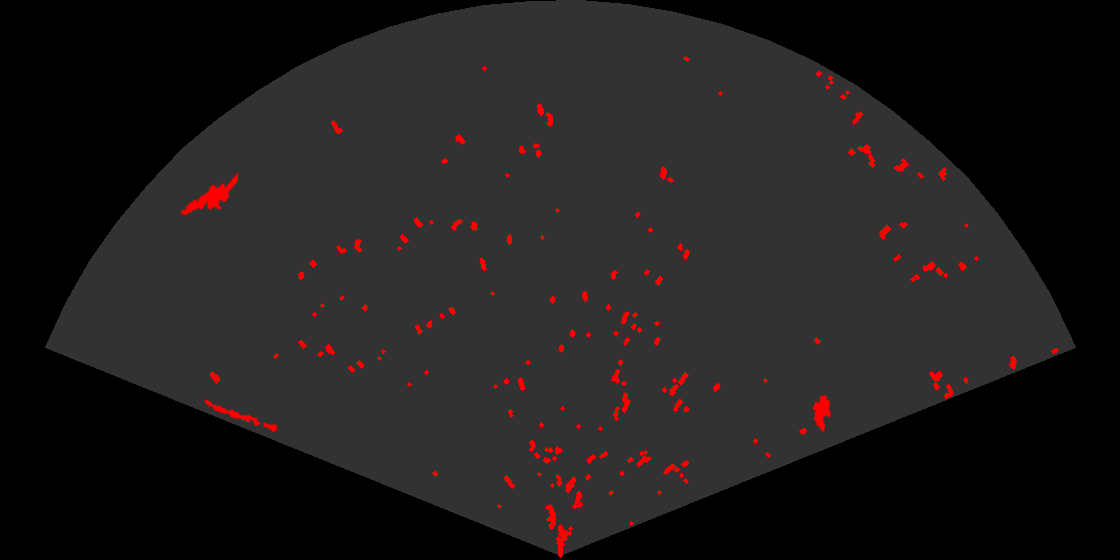AUV: (811, 393, 832, 434)
chain: (202, 398, 280, 434)
frogman: (179, 171, 238, 217)
